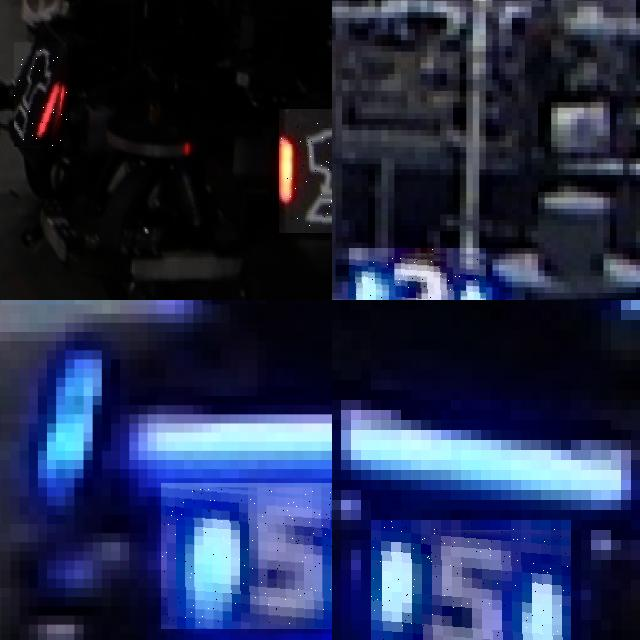B2: (349, 248, 486, 300)
B5: (161, 482, 332, 629), (371, 520, 571, 640)
Rs: (279, 108, 332, 233), (14, 42, 67, 148)
